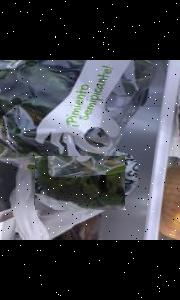Brocoli: (34, 156, 124, 210)
